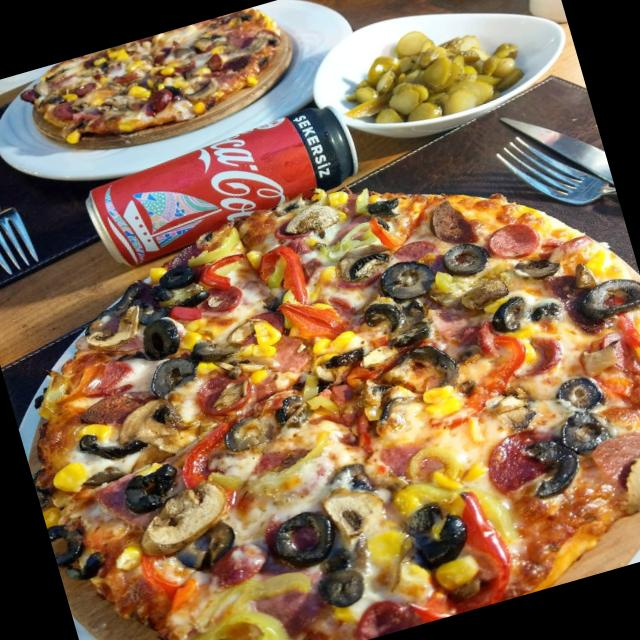black_olives: (509, 439, 594, 502), (401, 503, 469, 574), (270, 508, 336, 571), (566, 279, 640, 334), (113, 463, 186, 516), (388, 342, 462, 389), (173, 522, 237, 574), (559, 407, 615, 456), (380, 261, 439, 305), (148, 355, 200, 403), (318, 558, 366, 610), (224, 413, 276, 455), (553, 376, 611, 412), (141, 315, 182, 363), (439, 242, 493, 278), (491, 296, 530, 334), (189, 335, 240, 363), (155, 265, 201, 294), (48, 528, 80, 568), (361, 300, 402, 329), (323, 346, 365, 372), (513, 257, 561, 279)
mushrooms: (140, 484, 230, 560), (112, 398, 209, 460), (325, 488, 396, 569), (83, 305, 144, 349), (280, 203, 345, 237), (337, 244, 392, 283), (489, 394, 538, 433)
pepperoni: (489, 434, 563, 495), (354, 603, 431, 640), (199, 371, 250, 418), (513, 335, 560, 381), (488, 224, 537, 260), (85, 363, 126, 396), (196, 285, 243, 313), (394, 239, 445, 264)
pizza: (27, 190, 640, 640), (29, 6, 294, 151)
